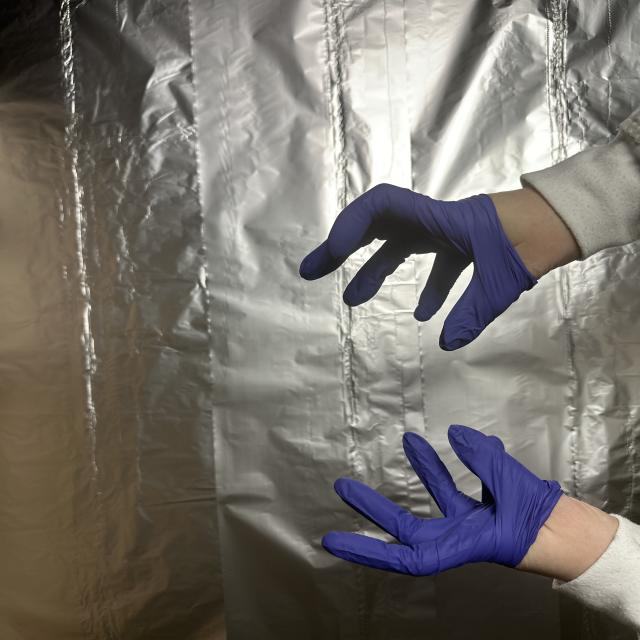glove_partial: (324, 417, 617, 588), (299, 180, 582, 353)
